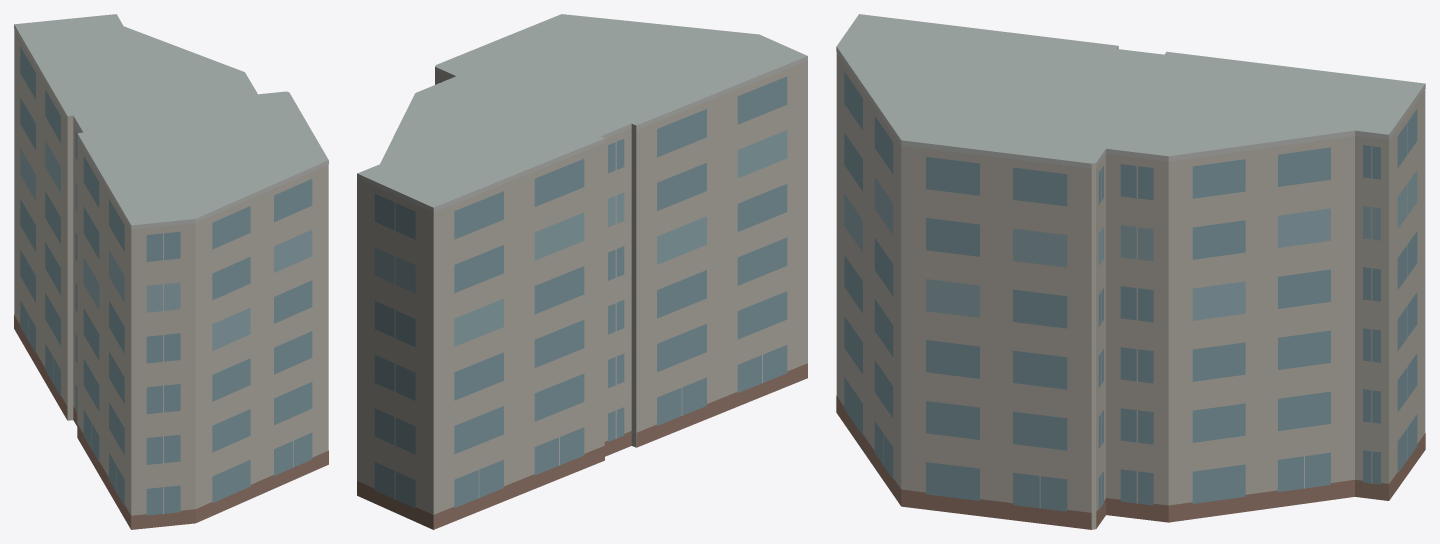
File: survey-upis-32703992.glb
3 views of the same model, side by side, from view 1: azimuth 30°, elevation 25°; view 2: azimuth 150°, elevation 25°; view 3: azimuth 270°, elevation 25° (orthographic). The views are drawn at different scales.
Parts seen in each view (by area): view 1: survey-upis-32703992.tmp; view 2: survey-upis-32703992.tmp; view 3: survey-upis-32703992.tmp.
Part boxes in pixels (x1,y1,x2,y2): survey-upis-32703992.tmp: [14, 14, 328, 529]; survey-upis-32703992.tmp: [357, 14, 807, 529]; survey-upis-32703992.tmp: [836, 14, 1425, 529].
Bounding box in the file's own units: 14.99 × 17.1 × 24.93.
